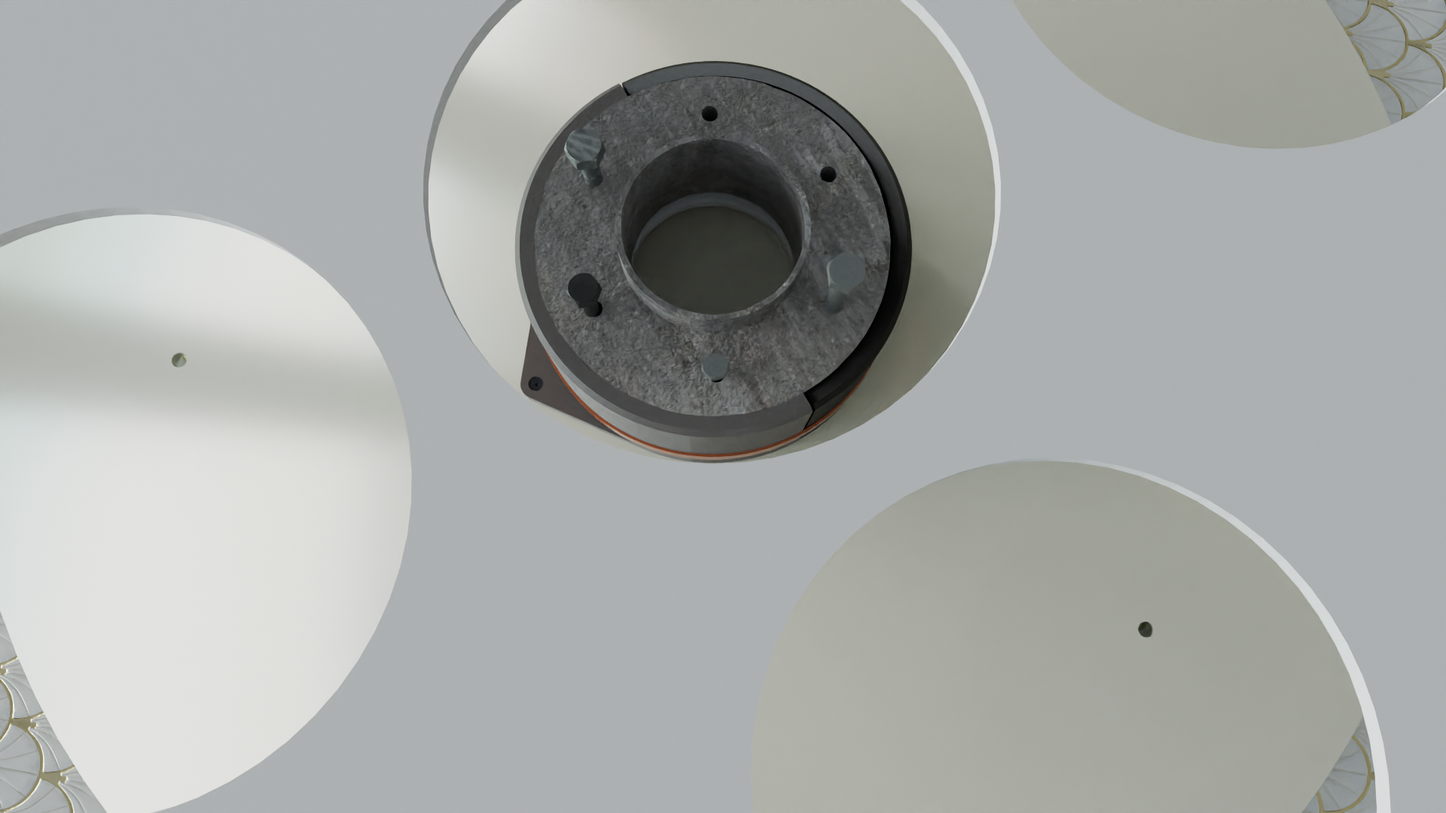bolt: (828, 251, 866, 291), (564, 129, 604, 164), (566, 273, 600, 305), (701, 352, 729, 379)
